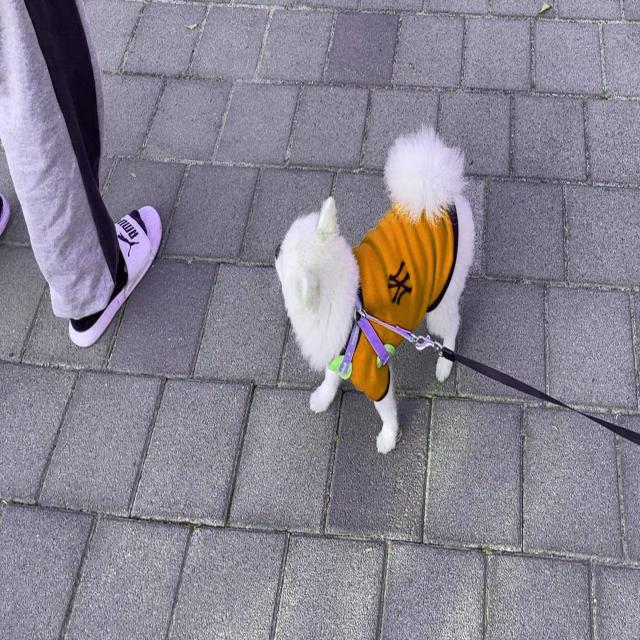Dog: (274, 120, 476, 458)
